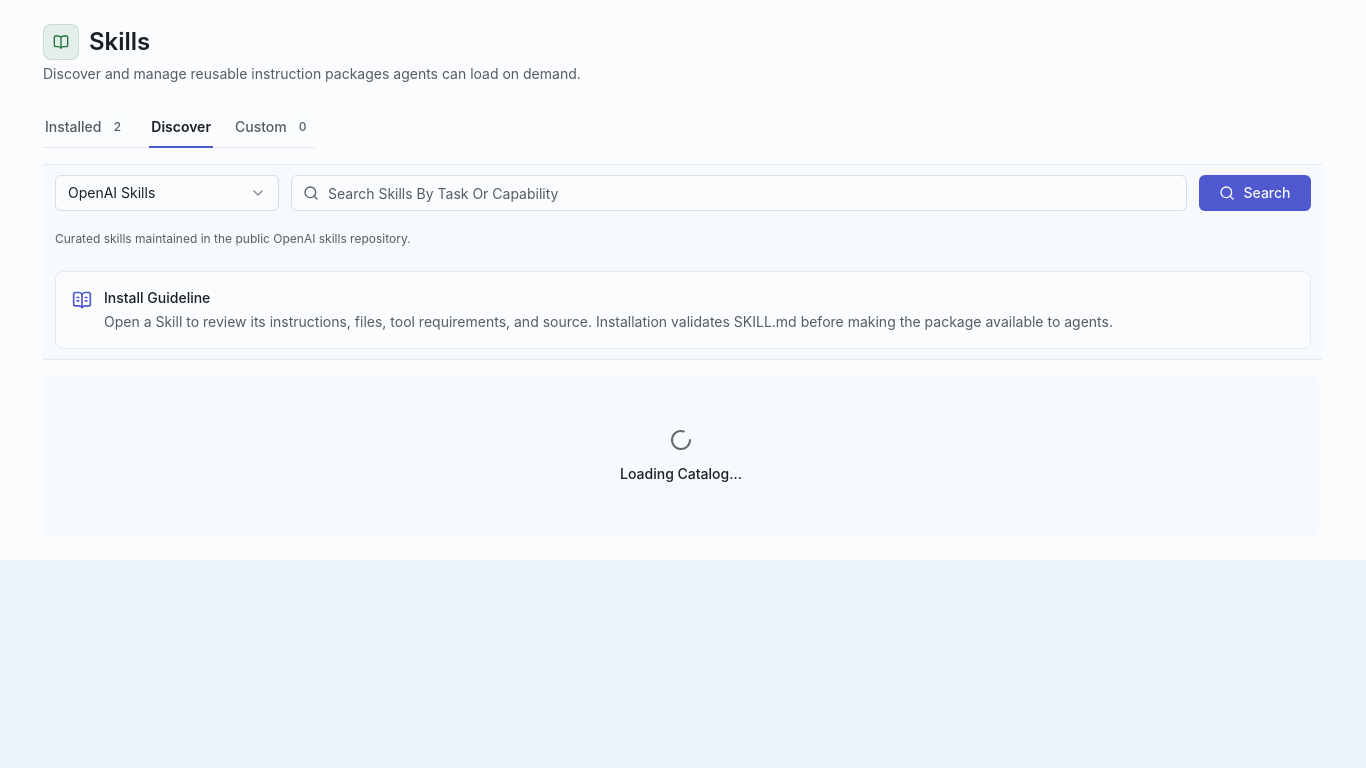
Test: SkillsPage › keeps Search available while the initial catalog request is still loading
expect the button with test id "skill-catalog-search-button" is enabled: met, box left=1199, top=175, right=1311, bottom=211
Type "documents" into the field with test id "skill-catalog-search" at (739, 193), box left=291, top=175, right=1187, bottom=211
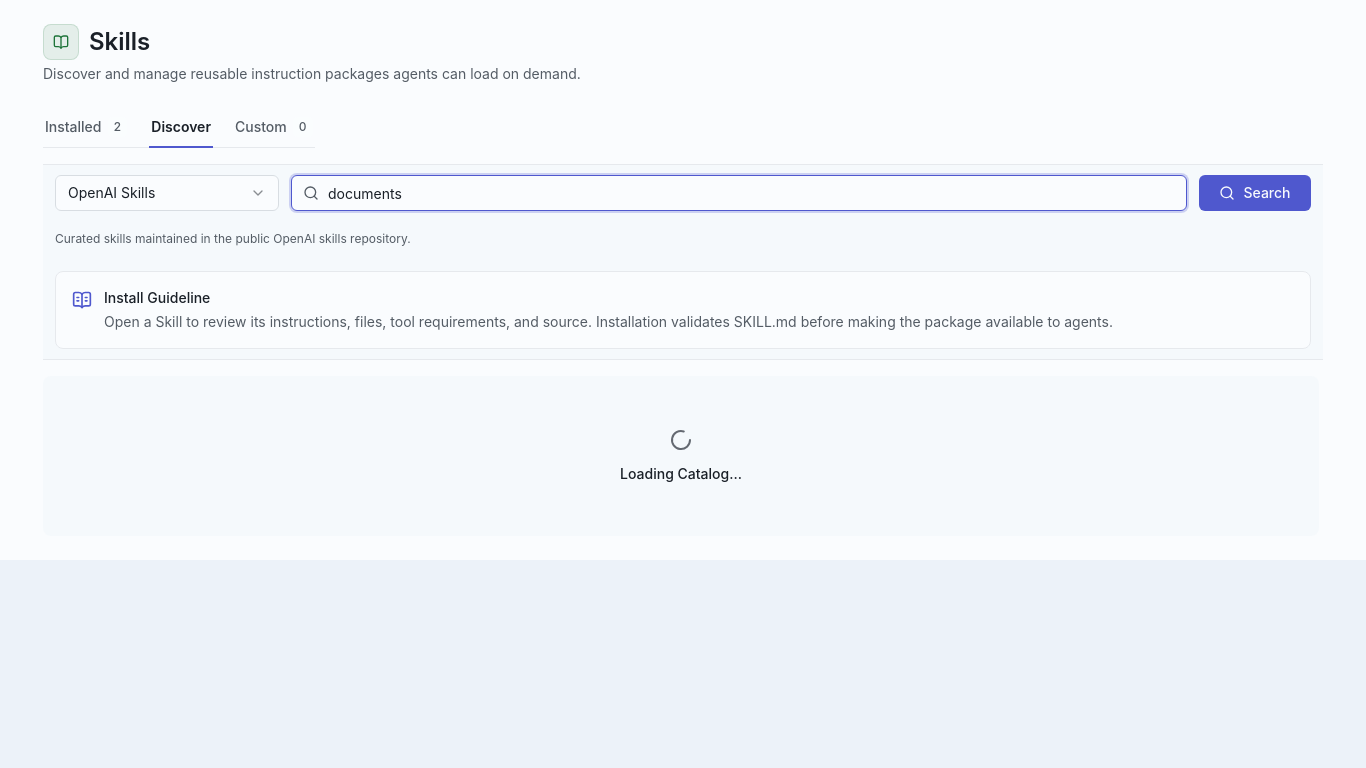
Click the button with test id "skill-catalog-search-button" at (1255, 193), box left=1199, top=175, right=1311, bottom=211
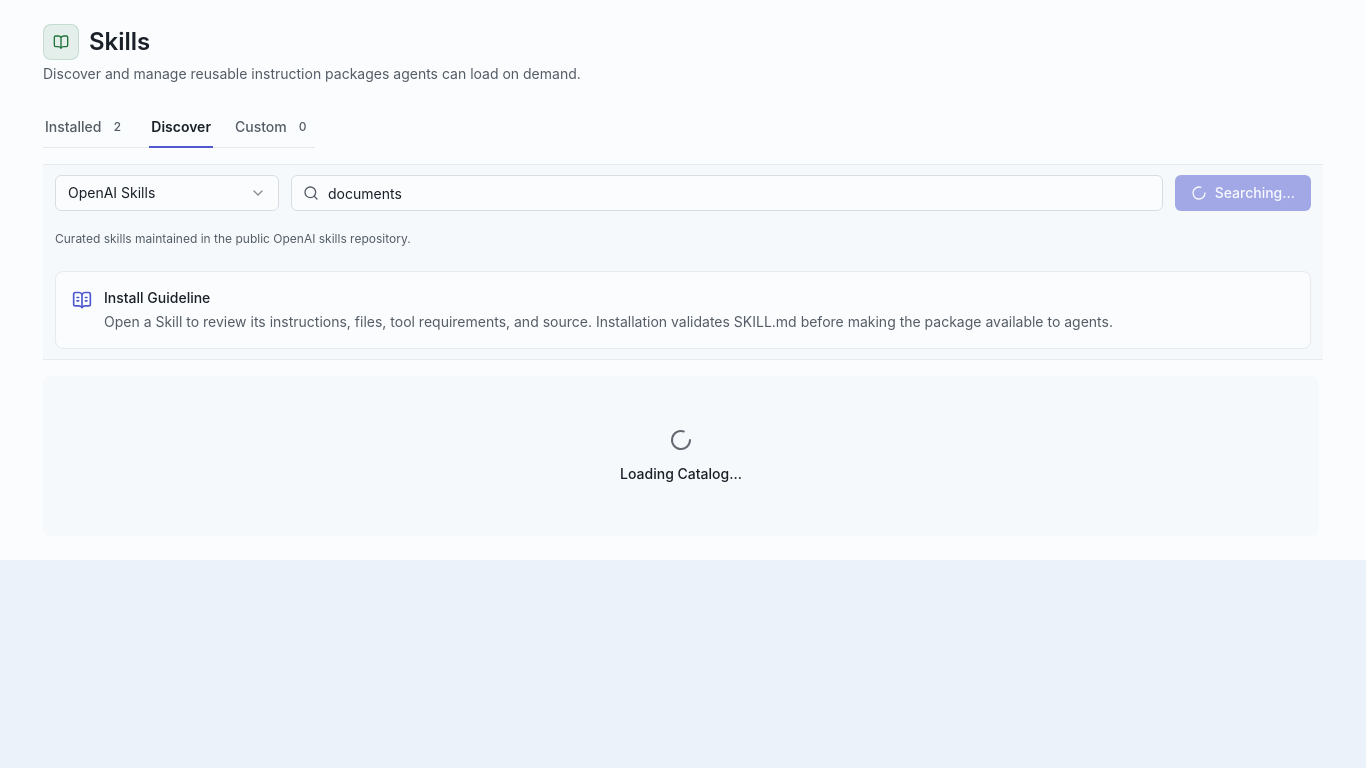
expect the button with test id "skill-catalog-search-button" is disabled: met, box left=1175, top=175, right=1311, bottom=211
expect the button with test id "skill-catalog-search-button" shows "Searching": met, box left=1175, top=175, right=1311, bottom=211
